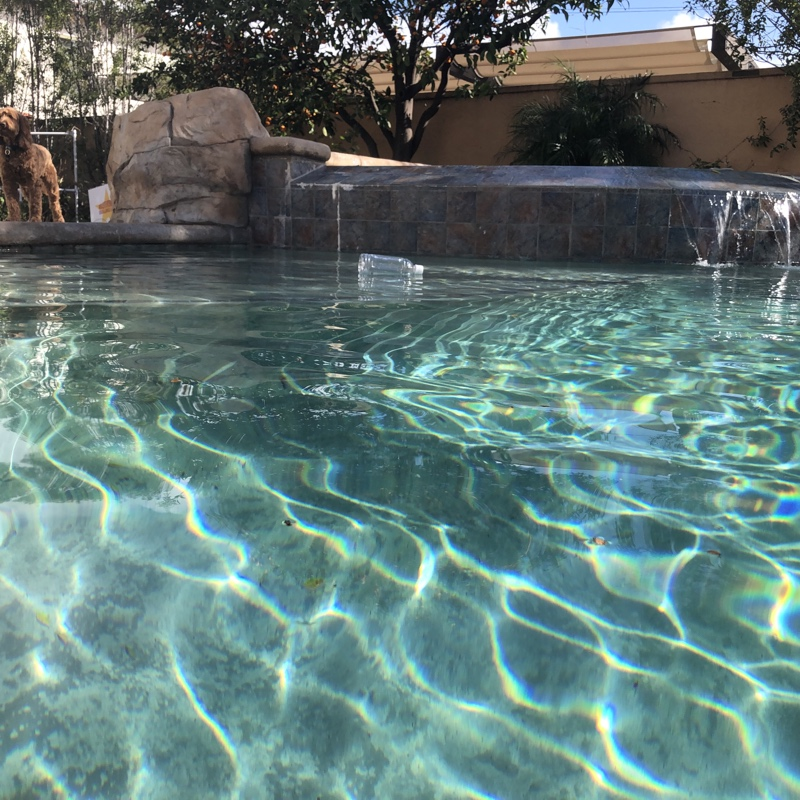Plastic Bottle: (350, 250, 428, 286)
